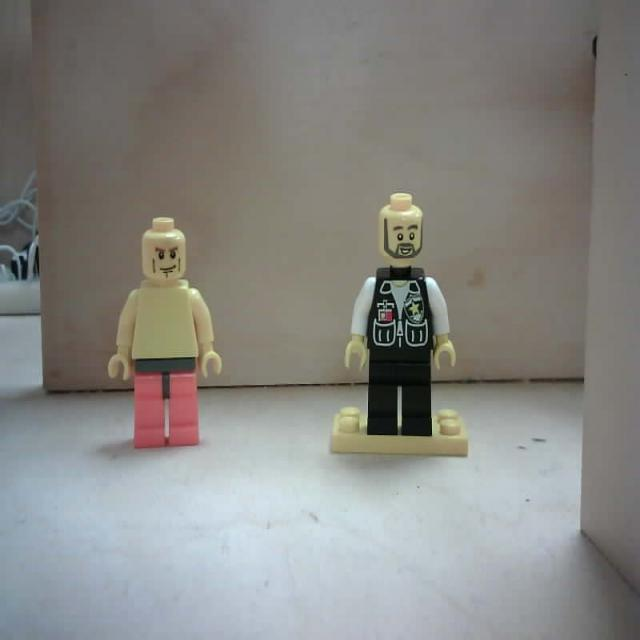Lego-People: (331, 193, 468, 463), (106, 216, 223, 453)
